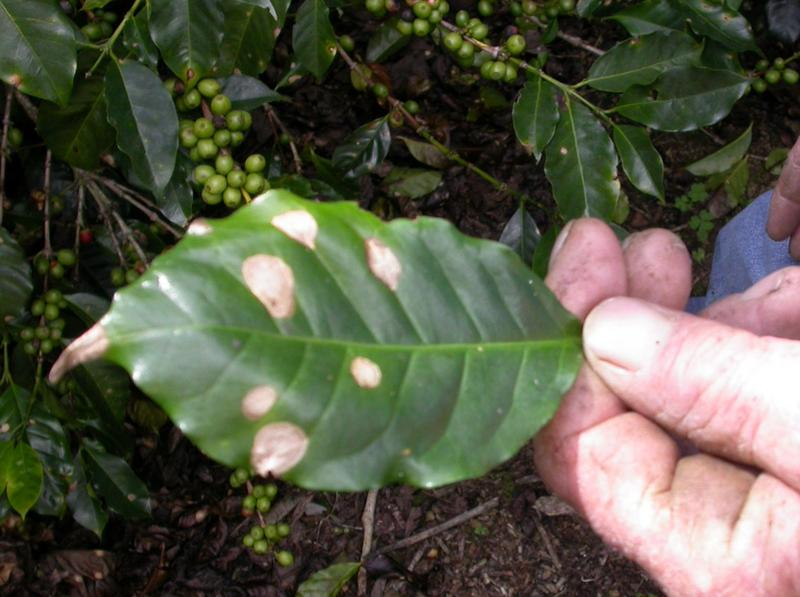ojo de gallo: (261, 207, 402, 485)
